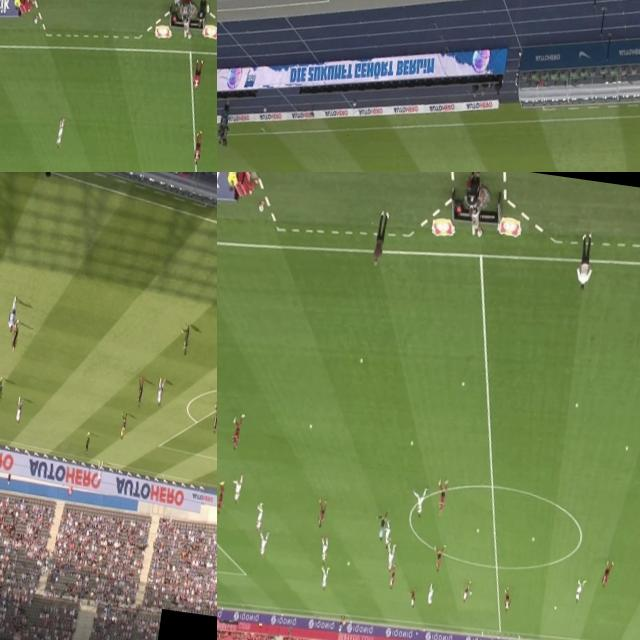ball: (469, 588, 474, 596), (308, 423, 314, 429), (575, 401, 580, 408), (461, 381, 466, 387), (554, 605, 558, 611), (625, 446, 629, 452), (347, 561, 351, 567), (532, 536, 536, 542), (360, 357, 363, 363), (476, 528, 479, 534), (411, 441, 414, 446)
player: (410, 487, 428, 521), (434, 478, 450, 516), (229, 414, 245, 451), (5, 296, 22, 330), (230, 474, 245, 506), (54, 116, 67, 152), (383, 542, 398, 572), (431, 546, 447, 574), (10, 318, 22, 354), (192, 130, 204, 165), (600, 560, 614, 590), (190, 62, 203, 94), (254, 502, 266, 535), (316, 498, 328, 530), (154, 379, 167, 408), (256, 532, 270, 558), (217, 480, 227, 516), (135, 377, 146, 408), (319, 536, 330, 566), (383, 520, 394, 548), (14, 398, 24, 428), (574, 580, 586, 604), (461, 578, 471, 604), (502, 587, 512, 613), (181, 325, 189, 357), (318, 567, 329, 590), (82, 432, 92, 456), (210, 400, 217, 434), (407, 587, 418, 607), (426, 584, 434, 608), (0, 376, 6, 407), (389, 566, 396, 590), (96, 460, 103, 482)
